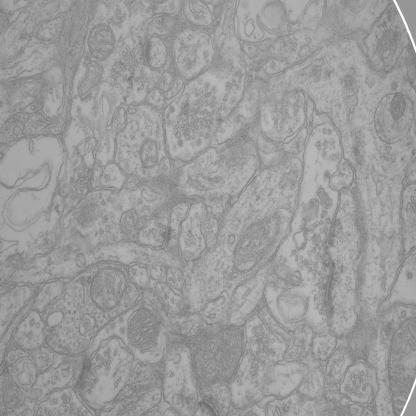mitochondria: (186, 318, 248, 393), (232, 208, 282, 276), (124, 304, 162, 355), (88, 266, 128, 310), (86, 19, 116, 62), (75, 63, 103, 99)
